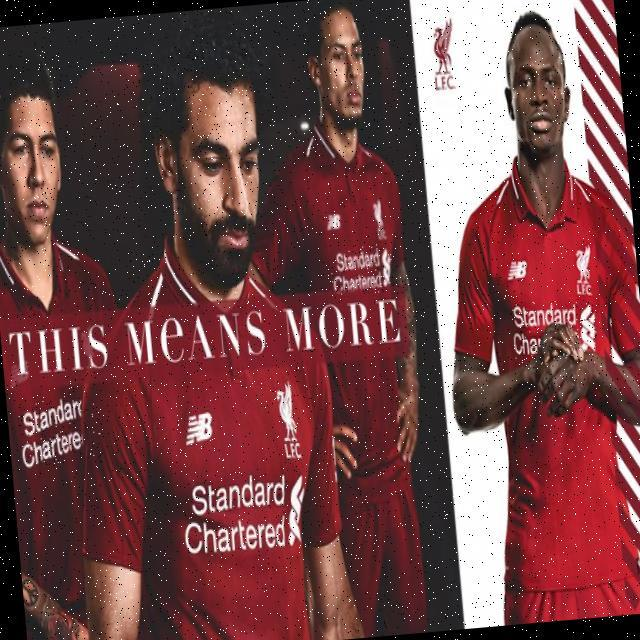Standard Chartered: (179, 472, 309, 559), (16, 392, 105, 469), (510, 293, 599, 369), (329, 243, 394, 296)
